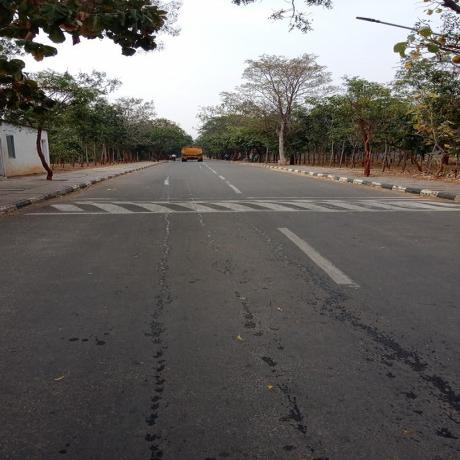Speed Bump: (23, 197, 459, 215)
